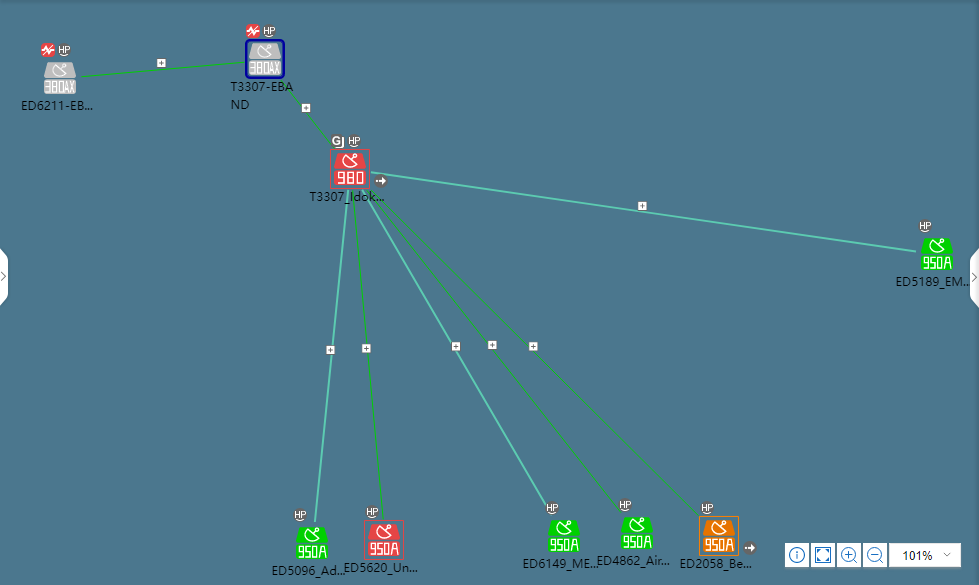Link_Blue: (369, 202, 549, 514), (370, 167, 915, 257), (315, 192, 347, 493)
Link_Green: (370, 192, 694, 514), (352, 211, 387, 519), (278, 81, 330, 146), (76, 63, 208, 78)
RTN_Gray: (248, 45, 281, 80), (46, 63, 75, 98)
RTN_Green: (921, 240, 956, 276), (548, 522, 583, 557), (297, 528, 332, 563), (621, 516, 656, 549)
RTN_Orange: (701, 516, 742, 557)
RTN_Red: (364, 522, 405, 563), (333, 155, 367, 190)
